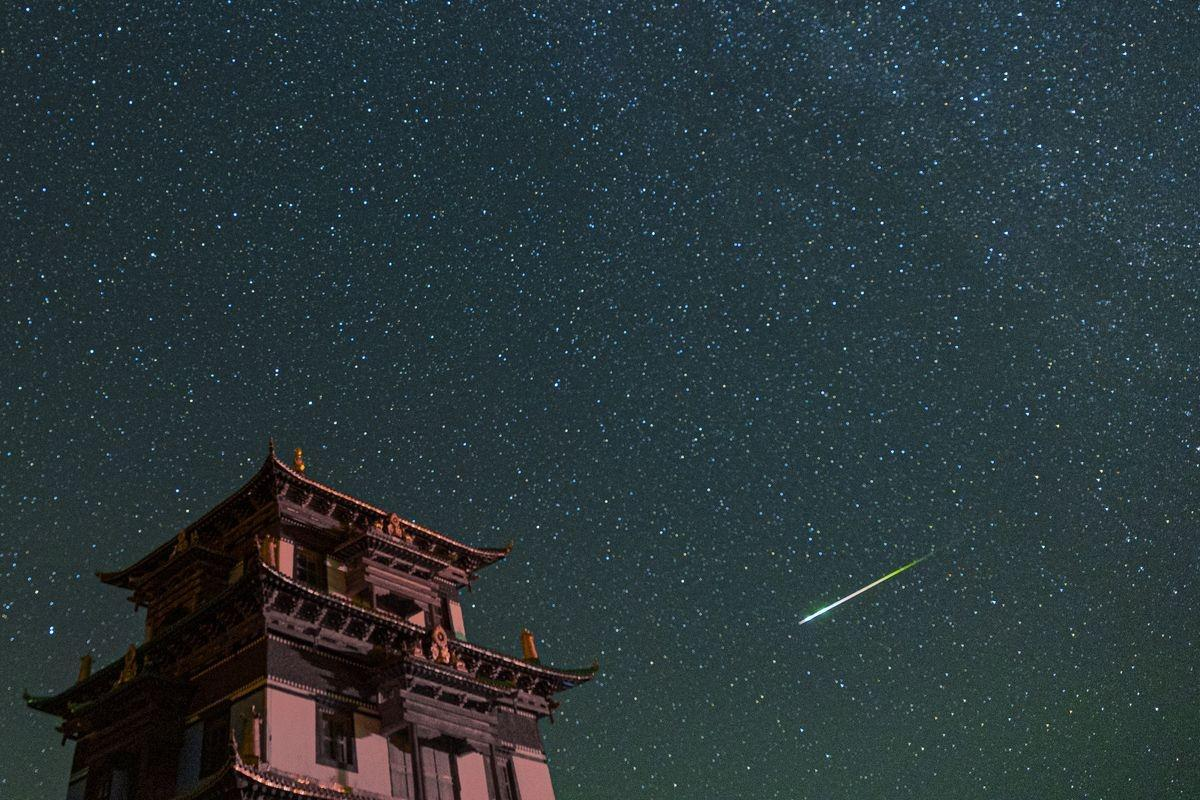meteorite: (779, 526, 965, 647)
